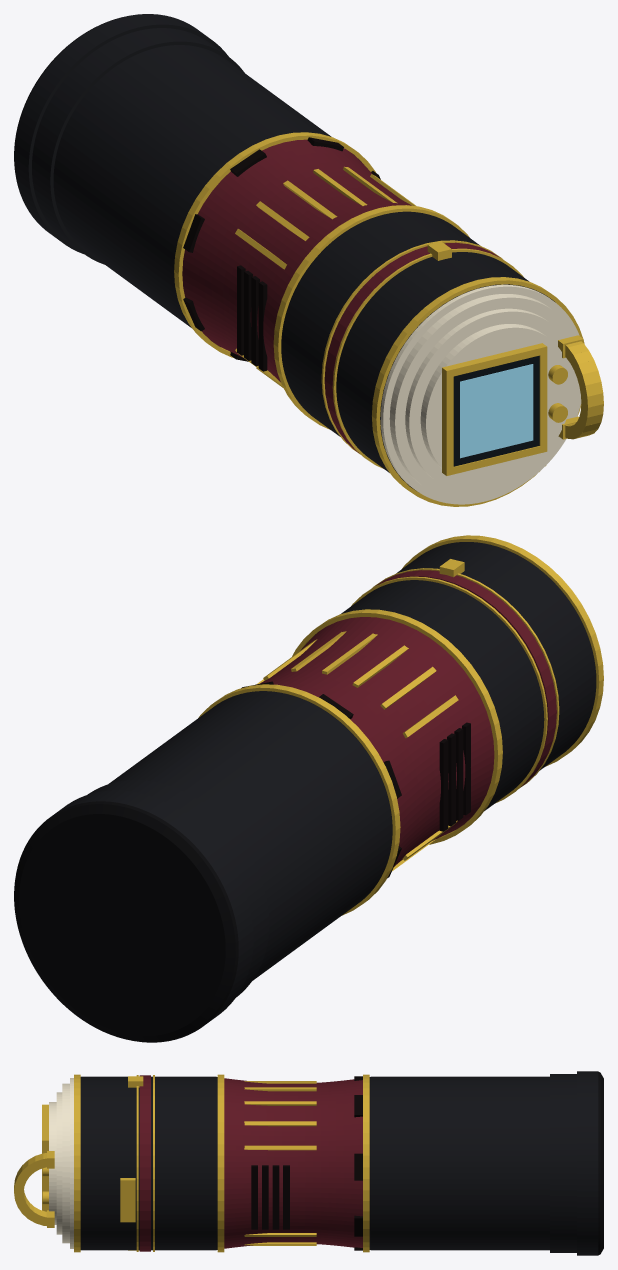
Rendered from thermox_bottle_deco_onepcb.obj.
The picture shows the model from 3 angles, top to bottom: view 1: azimuth 30°, elevation 25°; view 2: azimuth 150°, elevation 25°; view 3: azimuth 270°, elevation 25°; orthographic projection. The views are drawn at different scales.
Parts seen in each view (by area): view 1: body_lower, body_upper, lid, body_waist, oled_screen, gold_band_3, gold_band_1, gold_band_2, stripe, oled_1_5in, hair_2, oled_bezel_b (+7 smaller); view 2: body_lower, base_pad, body_upper, body_waist, gold_band_2, stripe, gold_band_1, gold_band_3, hair_1, hair_2, exhaust_slot_rear_1, exhaust_slot_rear_2 (+2 smaller); view 3: body_lower, body_upper, body_waist, lid, stripe, gold_band_2, gold_band_1, gold_band_3, base_pad, nameplate, exhaust_slot_front_2, hair_2 (+11 smaller).
Boxes of the visible parts, box(x1,y1,x2,y2) form: body_lower: box(14, 14, 361, 346); body_upper: box(281, 211, 555, 490); lid: box(380, 284, 581, 504); body_waist: box(182, 139, 411, 382); oled_screen: box(460, 364, 533, 458); gold_band_3: box(372, 277, 584, 506); gold_band_1: box(174, 132, 375, 357); gold_band_2: box(273, 205, 469, 429); stripe: box(324, 242, 499, 453); oled_1_5in: box(453, 355, 539, 466); hair_2: box(332, 248, 523, 468); oled_bezel_b: box(442, 343, 547, 377); body_lower: box(54, 691, 392, 1023); base_pad: box(14, 801, 238, 1042); body_upper: box(315, 542, 596, 824); body_waist: box(259, 617, 494, 866); gold_band_2: box(292, 609, 502, 844); stripe: box(376, 570, 556, 787); gold_band_1: box(198, 684, 400, 915); gold_band_3: box(401, 535, 603, 766); hair_1: box(351, 576, 547, 803); hair_2: box(372, 568, 559, 788); exhaust_slot_rear_1: box(439, 739, 448, 831); exhaust_slot_rear_2: box(447, 733, 455, 826); body_lower: box(369, 1071, 598, 1255); body_upper: box(80, 1076, 217, 1250); body_waist: box(224, 1078, 362, 1248); lid: box(49, 1078, 73, 1248); stripe: box(139, 1075, 150, 1251); gold_band_2: box(217, 1074, 224, 1252); gold_band_1: box(363, 1074, 369, 1252); gold_band_3: box(74, 1074, 80, 1252); base_pad: box(598, 1071, 603, 1255); nameplate: box(120, 1178, 135, 1222); exhaust_slot_front_2: box(272, 1165, 279, 1229); hair_2: box(136, 1075, 138, 1251).
Bounding box in the file's own units: 95.6 × 97 × 306.
